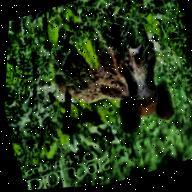boar: (28, 0, 192, 161)
